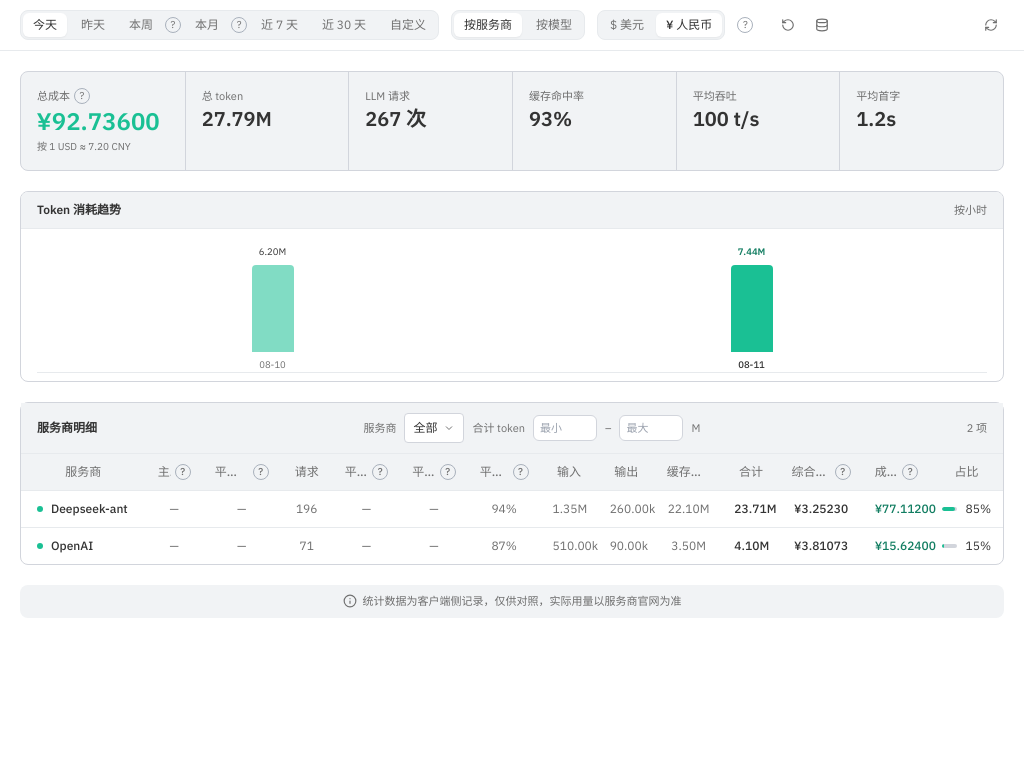
it: UsageWindow 全局用量窗口 › 切换时间范围（近 30 天）→ 按天粒度重新查询
Click the button "近 30 天": [344, 25] box [312,13,376,37]
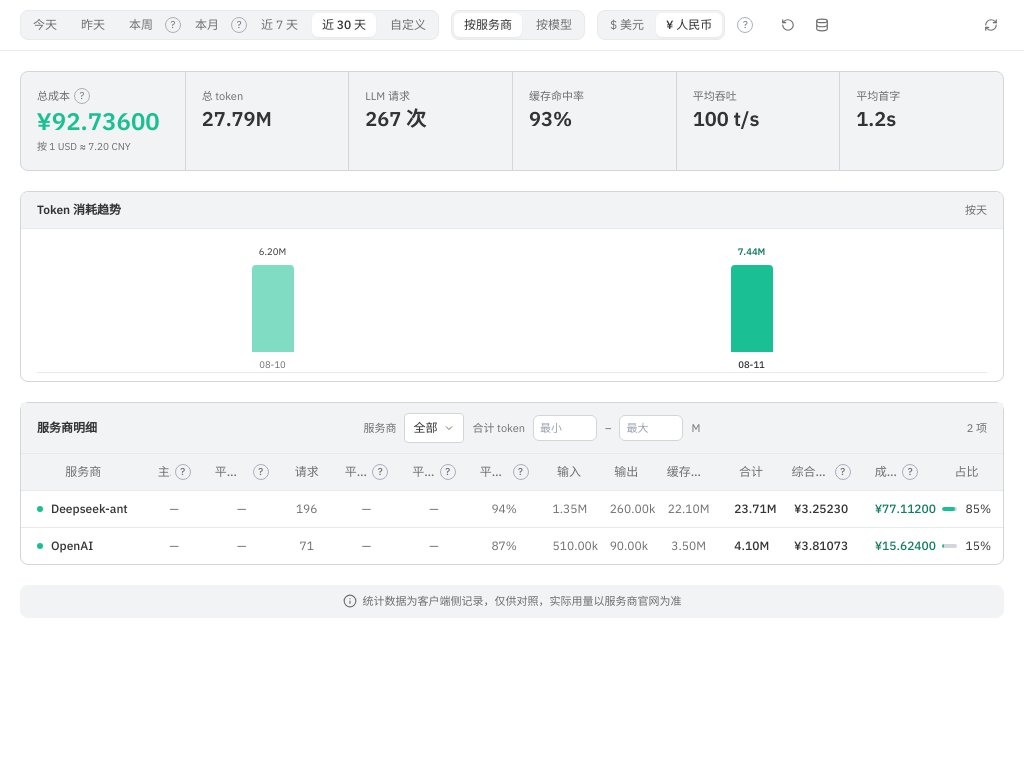
Result: the text "按天" is shown at [965,202,987,218]
